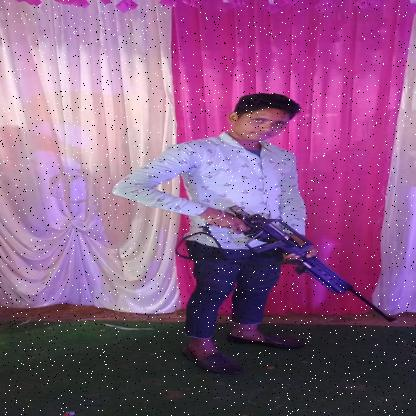rifle: (203, 204, 399, 324)
